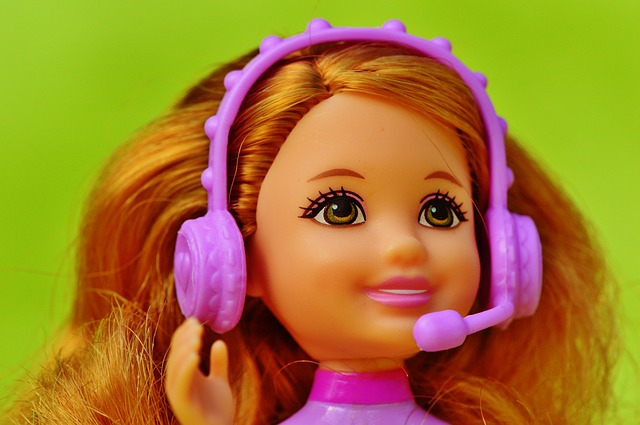headphones: (175, 19, 542, 333)
